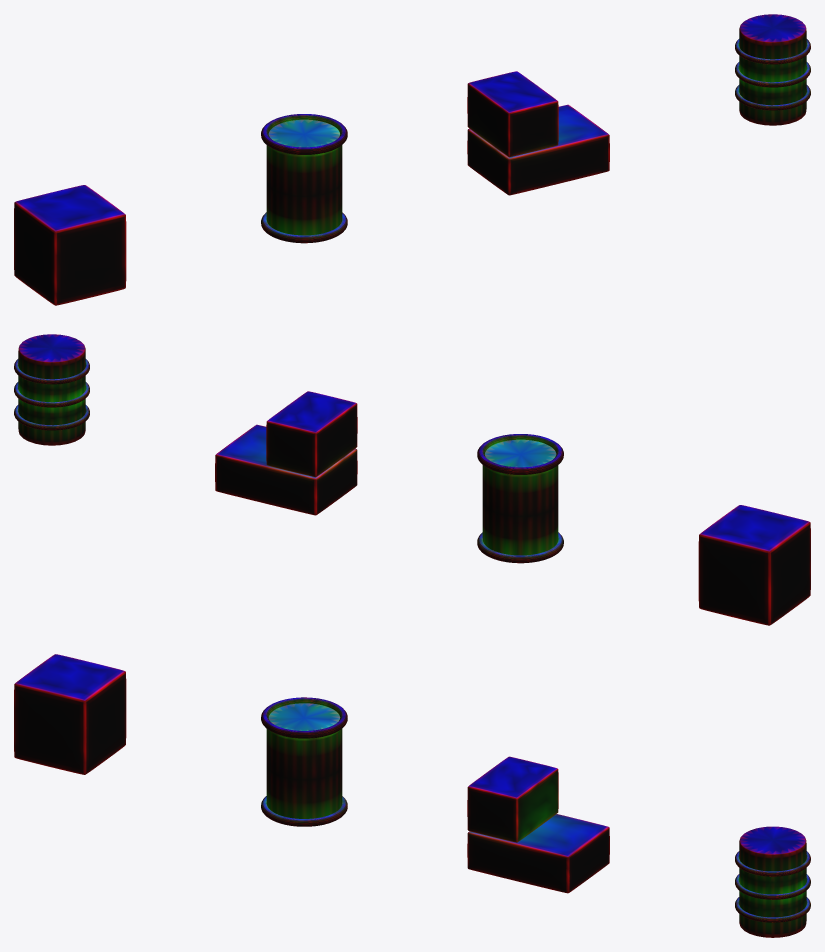
The model's file is weathering_masks_packed.fbx.
The picture shows the model from 3 angles, top to bottom: view 1: azimuth 30°, elevation 25°; view 2: azimuth 150°, elevation 25°; view 3: azimuth 330°, elevation 25°; orthographic projection.
Parts seen in each view (by area): view 1: export_packed; view 2: export_packed; view 3: export_packed.
Boxes of the visible parts, <box> form: export_packed: <box>14,14,810,305</box>; export_packed: <box>14,334,810,625</box>; export_packed: <box>14,654,810,937</box>.
Size of the model in its own units: 1055 by 125 by 103.
